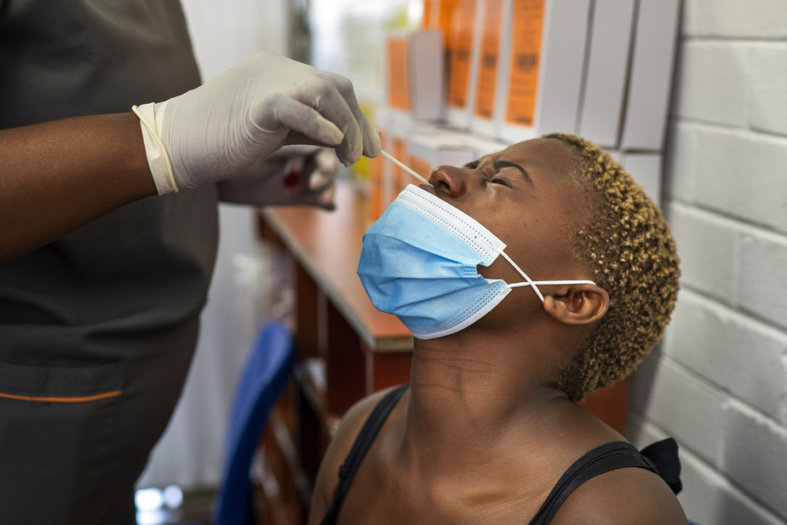with_incorrect_mask: (384, 162, 592, 378)
